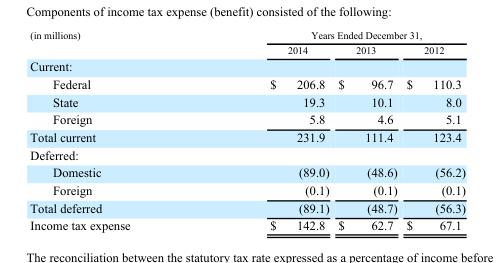table: (29, 29, 464, 232)
table column: (29, 29, 199, 232), (199, 29, 333, 232), (333, 29, 401, 232), (401, 29, 464, 232)
table column header: (29, 29, 464, 57)
table projected row header: (29, 145, 464, 163), (29, 57, 464, 74)
table row: (29, 74, 464, 92), (29, 92, 464, 110), (29, 127, 464, 145), (29, 145, 464, 163), (29, 180, 464, 198), (29, 198, 464, 216), (29, 57, 464, 74), (29, 110, 464, 127), (29, 163, 464, 180), (29, 216, 464, 232), (29, 42, 464, 57), (29, 29, 464, 42)
table spanning cell: (29, 29, 199, 57), (199, 29, 464, 42)
